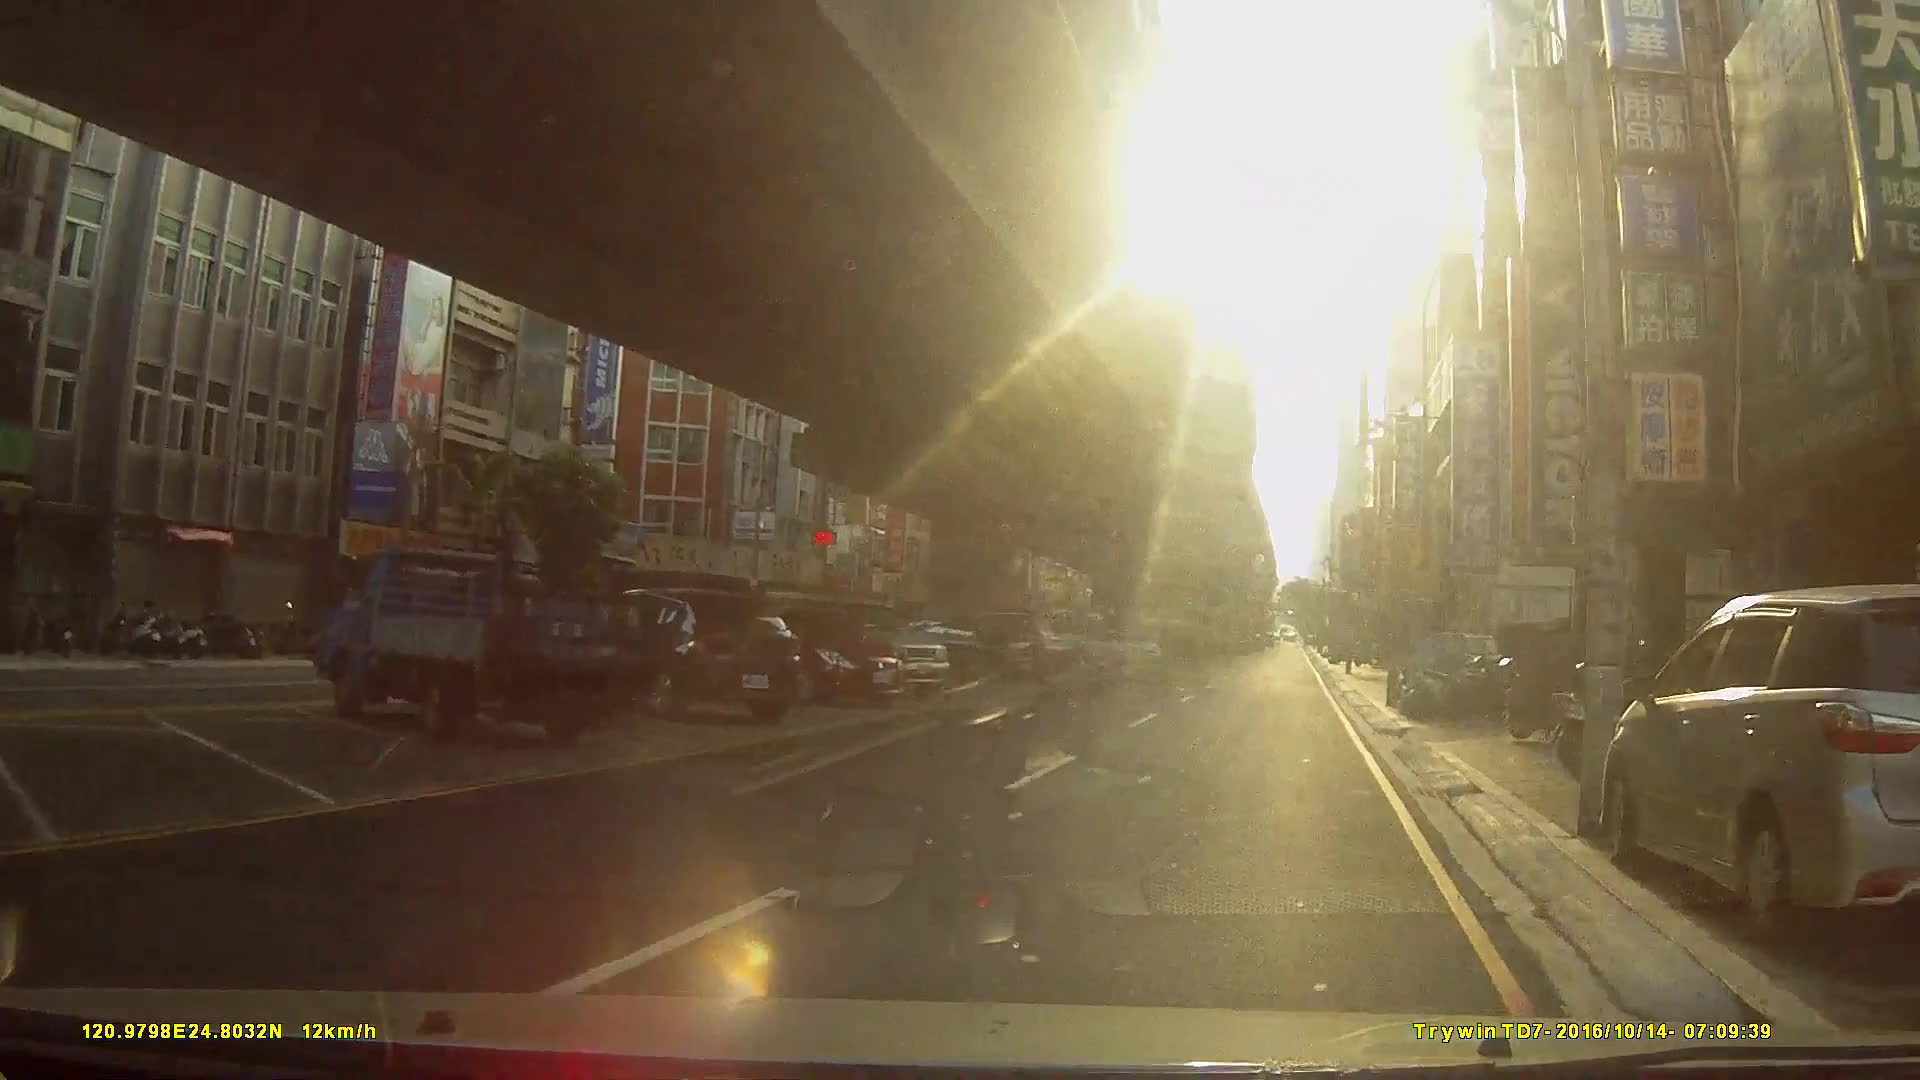vehicle: (1598, 582, 1920, 944), (314, 546, 655, 744), (587, 585, 800, 721), (723, 603, 902, 704), (880, 618, 1033, 680)
